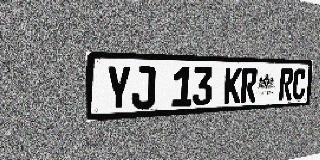1: (172, 66, 193, 107)
3: (192, 67, 213, 106)
C: (292, 69, 307, 100)
J: (131, 66, 156, 109)
K: (223, 67, 242, 104)
R: (240, 68, 258, 103), (278, 68, 294, 101)
Y: (106, 65, 131, 111)
